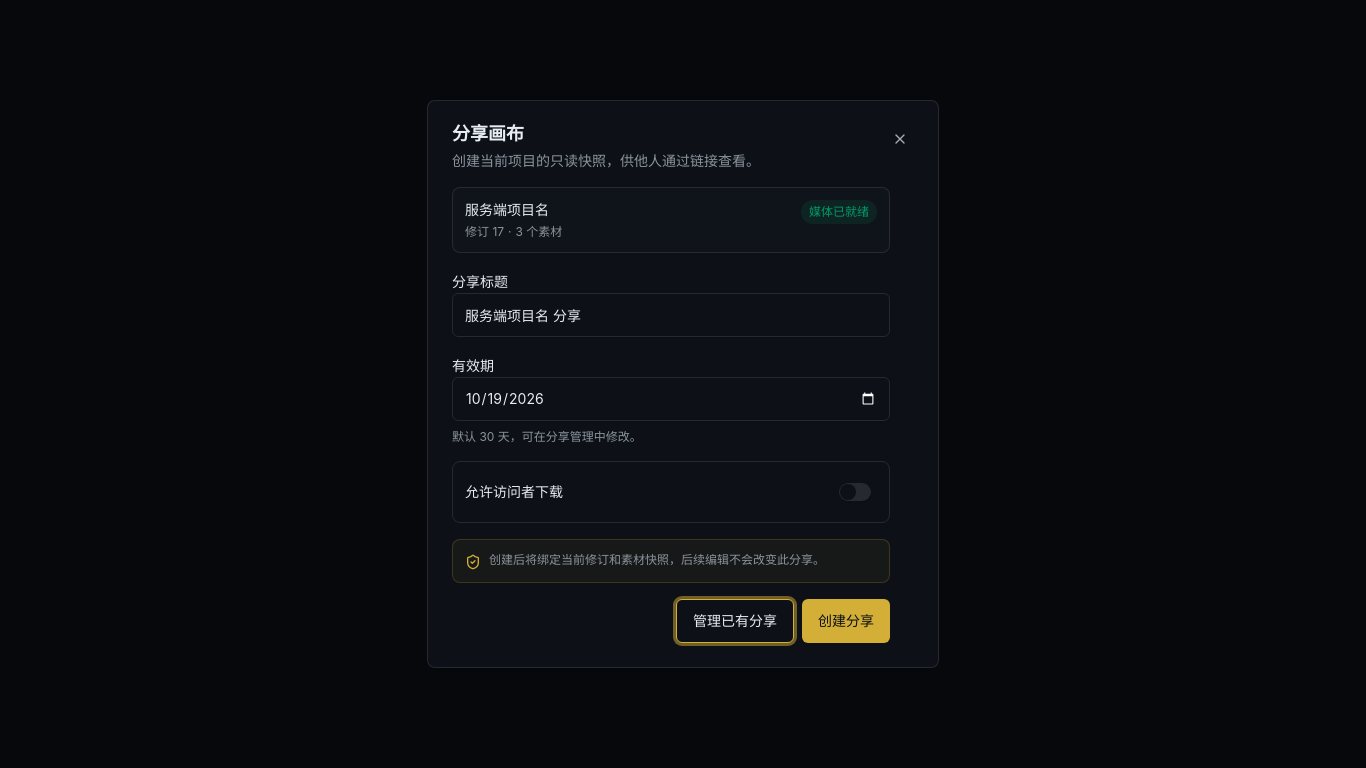
it: canvas share owner UI › maps CANVAS_SHARE_PROJECT_CONFLICT to a safe Chinese next action
expect the text "媒体已就绪" is shown: met, box [801,200,877,224]
Click the button "创建分享".
click(846, 621)  # box [802,599,890,643]
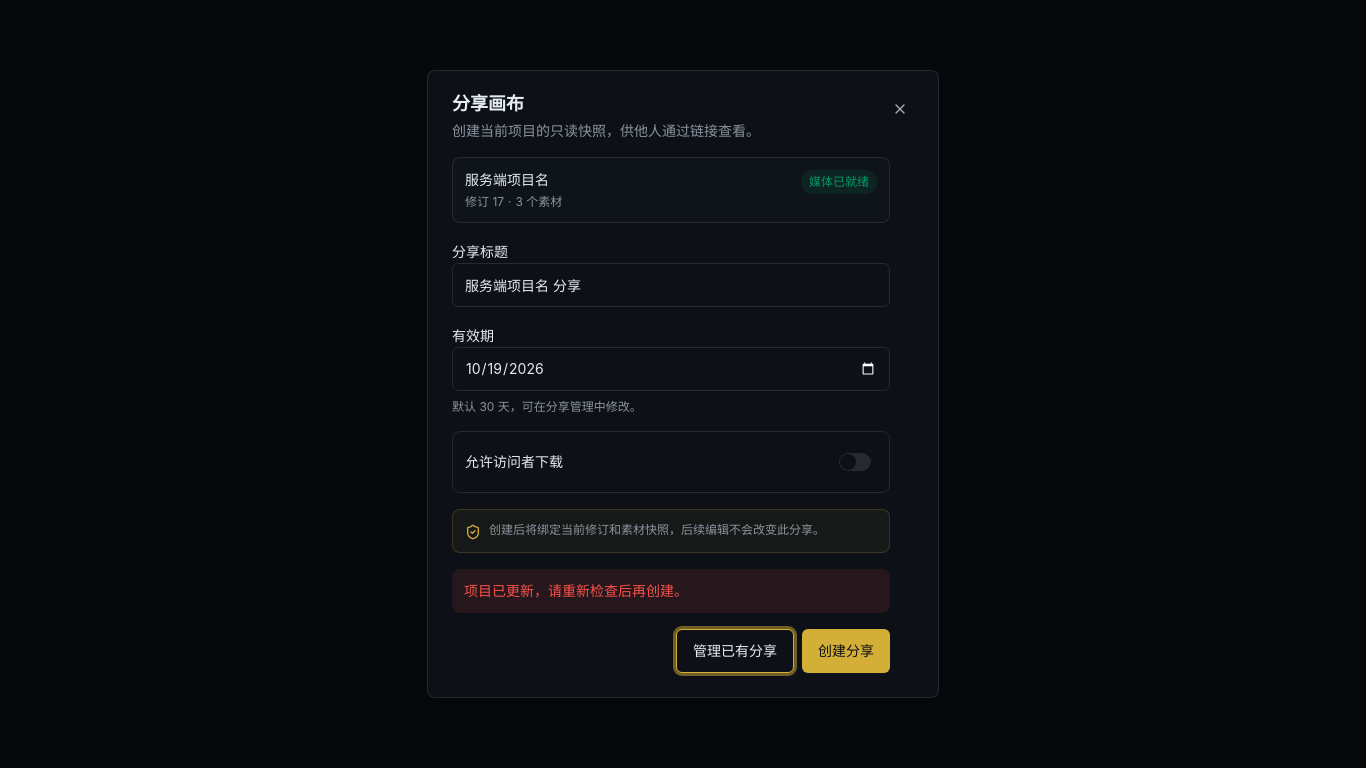
expect the message shows "项目已更新，请重新检查后再创建": met, box [464,582,688,599]
